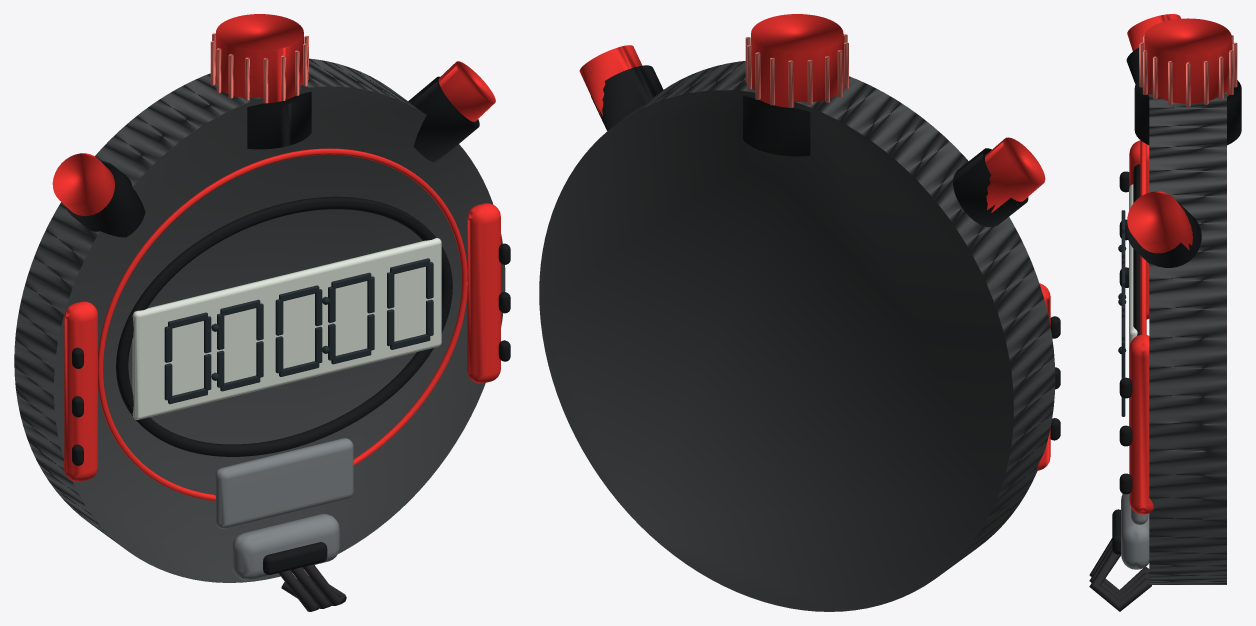
File: Stoppuhr_3D.glb
3 views of the same model, side by side, from view 1: azimuth 30°, elevation 25°; view 2: azimuth 150°, elevation 25°; view 3: azimuth 270°, elevation 25° (orthographic). The views are drawn at different scales.
Parts seen in each view (by area): view 1: Stoppuhr_3D__web_matte_black_stopwatch_outer_rubber_case, Stoppuhr_3D__web_glossy_red_stopwatch_buttons_and_side_grips, Stoppuhr_3D__web_pale_green_grey_stopwatch_lcd_display, Stoppuhr_3D__web_deep_black_stopwatch_recessed_grooves_and_s, Stoppuhr_3D__web_dark_graphite_stopwatch_bevel_panels, Stoppuhr_3D__web_nearly_black_seven_segment_stopwatch_digits, Stoppuhr_3D__web_bright_red_stopwatch_button_highlights, Stoppuhr_3D__web_black_braided_stopwatch_wrist_cord; view 2: Stoppuhr_3D__web_matte_black_stopwatch_outer_rubber_case, Stoppuhr_3D__web_glossy_red_stopwatch_buttons_and_side_grips, Stoppuhr_3D__web_deep_black_stopwatch_recessed_grooves_and_s, Stoppuhr_3D__web_bright_red_stopwatch_button_highlights; view 3: Stoppuhr_3D__web_matte_black_stopwatch_outer_rubber_case, Stoppuhr_3D__web_glossy_red_stopwatch_buttons_and_side_grips, Stoppuhr_3D__web_deep_black_stopwatch_recessed_grooves_and_s, Stoppuhr_3D__web_bright_red_stopwatch_button_highlights, Stoppuhr_3D__web_black_braided_stopwatch_wrist_cord, Stoppuhr_3D__web_dark_graphite_stopwatch_bevel_panels, Stoppuhr_3D__web_nearly_black_seven_segment_stopwatch_digits, Stoppuhr_3D__web_pale_green_grey_stopwatch_lcd_display.
Boxes of the visible parts, x1,y1,x2,y2 form: Stoppuhr_3D__web_matte_black_stopwatch_outer_rubber_case: [14, 58, 505, 582]; Stoppuhr_3D__web_glossy_red_stopwatch_buttons_and_side_grips: [52, 14, 500, 500]; Stoppuhr_3D__web_pale_green_grey_stopwatch_lcd_display: [132, 238, 441, 419]; Stoppuhr_3D__web_deep_black_stopwatch_recessed_grooves_and_s: [65, 76, 510, 574]; Stoppuhr_3D__web_dark_graphite_stopwatch_bevel_panels: [215, 438, 353, 580]; Stoppuhr_3D__web_nearly_black_seven_segment_stopwatch_digits: [164, 258, 433, 404]; Stoppuhr_3D__web_bright_red_stopwatch_button_highlights: [210, 33, 308, 103]; Stoppuhr_3D__web_black_braided_stopwatch_wrist_cord: [278, 564, 346, 611]; Stoppuhr_3D__web_matte_black_stopwatch_outer_rubber_case: [539, 61, 1055, 611]; Stoppuhr_3D__web_glossy_red_stopwatch_buttons_and_side_grips: [579, 14, 1050, 470]; Stoppuhr_3D__web_deep_black_stopwatch_recessed_grooves_and_s: [591, 65, 1060, 440]; Stoppuhr_3D__web_bright_red_stopwatch_button_highlights: [745, 34, 848, 107]; Stoppuhr_3D__web_matte_black_stopwatch_outer_rubber_case: [1149, 91, 1226, 584]; Stoppuhr_3D__web_glossy_red_stopwatch_buttons_and_side_grips: [1127, 14, 1231, 514]; Stoppuhr_3D__web_deep_black_stopwatch_recessed_grooves_and_s: [1112, 47, 1241, 554]; Stoppuhr_3D__web_bright_red_stopwatch_button_highlights: [1139, 35, 1237, 107]; Stoppuhr_3D__web_black_braided_stopwatch_wrist_cord: [1089, 538, 1151, 611]; Stoppuhr_3D__web_dark_graphite_stopwatch_bevel_panels: [1121, 494, 1149, 569]; Stoppuhr_3D__web_nearly_black_seven_segment_stopwatch_digits: [1118, 210, 1126, 416]; Stoppuhr_3D__web_pale_green_grey_stopwatch_lcd_display: [1129, 184, 1137, 425].
Size of the model in its own units: 0.83 by 0.979 by 0.2449.
